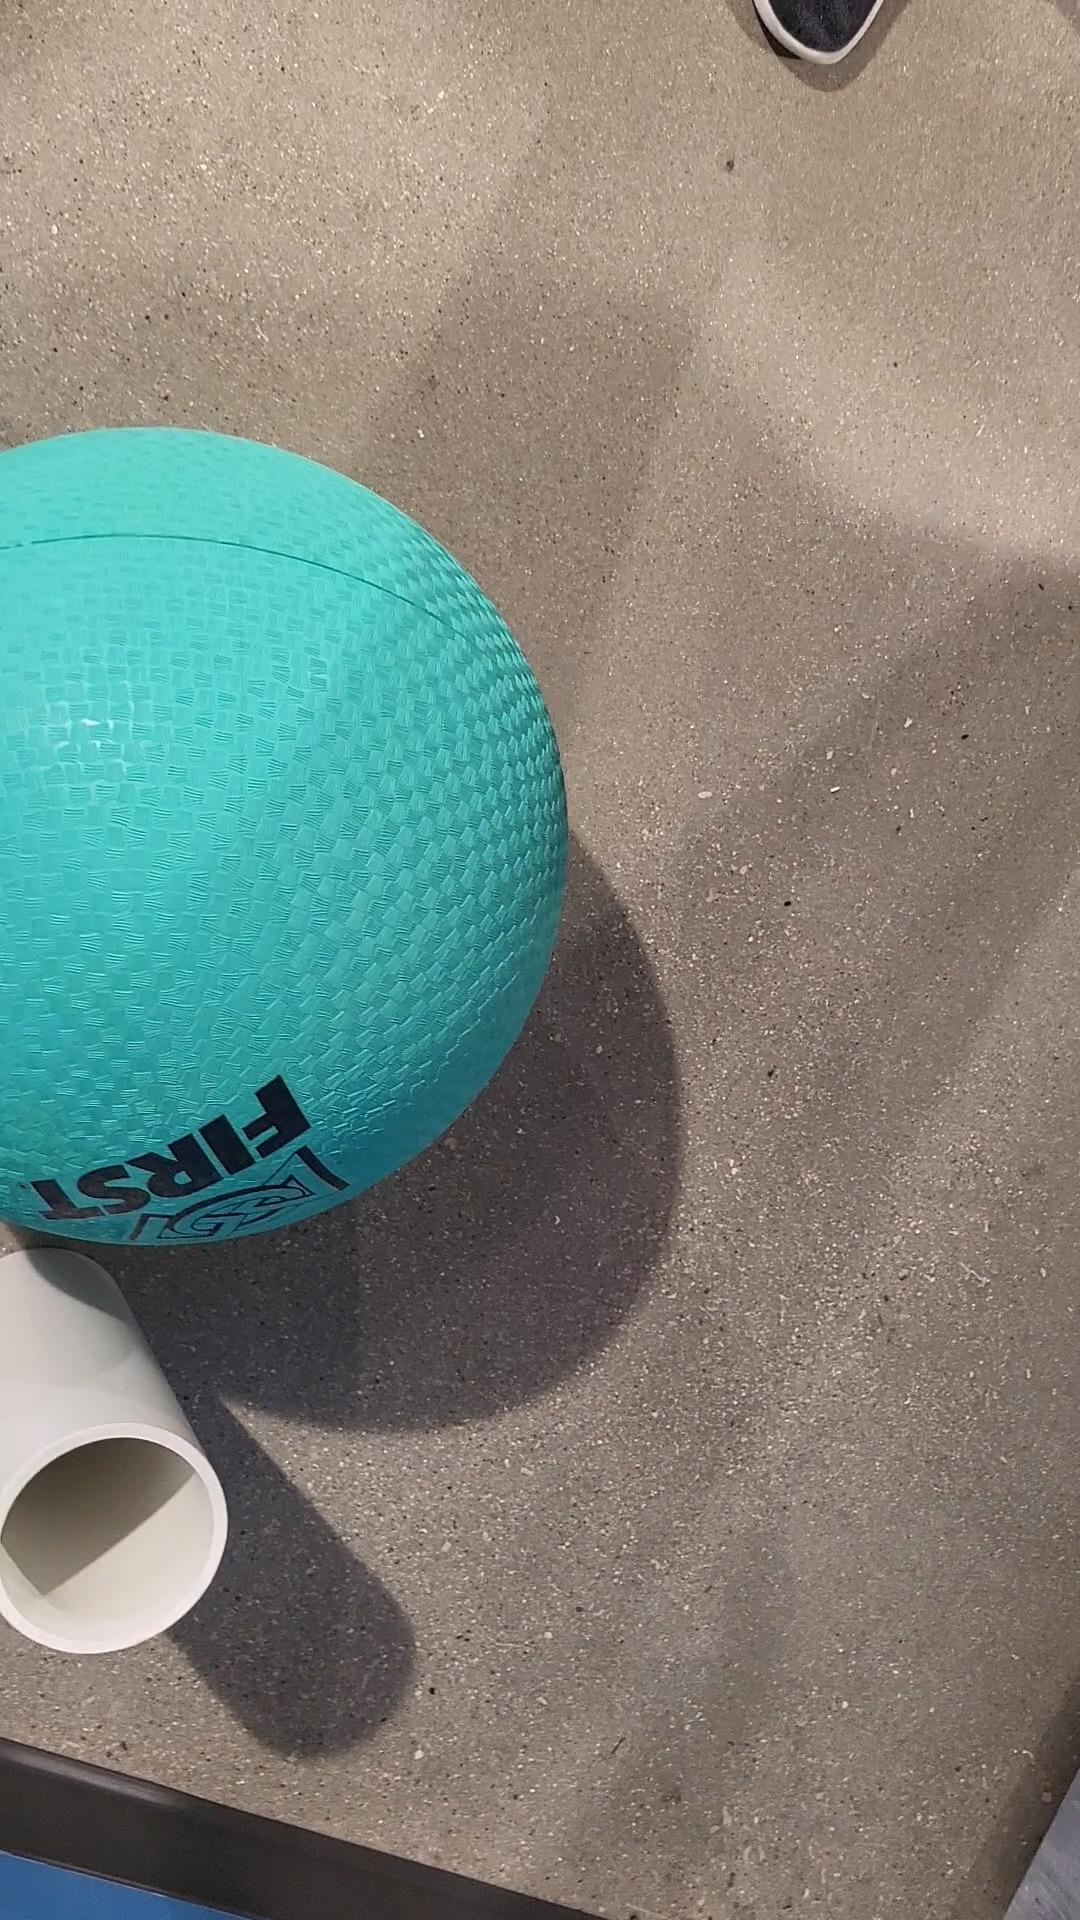algae: (0, 427, 567, 1242)
coral: (0, 1233, 235, 1658)
